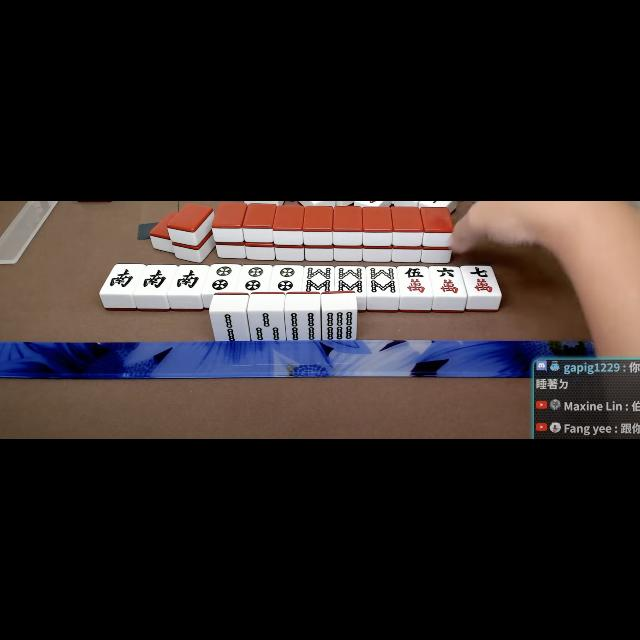b2: (212, 311, 248, 341)
b3: (250, 312, 284, 341)
b4: (286, 310, 320, 340)
b6: (322, 311, 356, 341)
b8: (368, 267, 398, 297), (335, 267, 367, 295), (303, 266, 333, 292)
c5: (398, 266, 432, 296)
c6: (432, 265, 463, 295)
c7: (464, 266, 498, 296)
d2: (270, 266, 304, 294), (206, 265, 238, 293), (238, 264, 270, 292)
ws: (171, 264, 205, 294), (138, 264, 172, 294), (105, 264, 136, 294)
